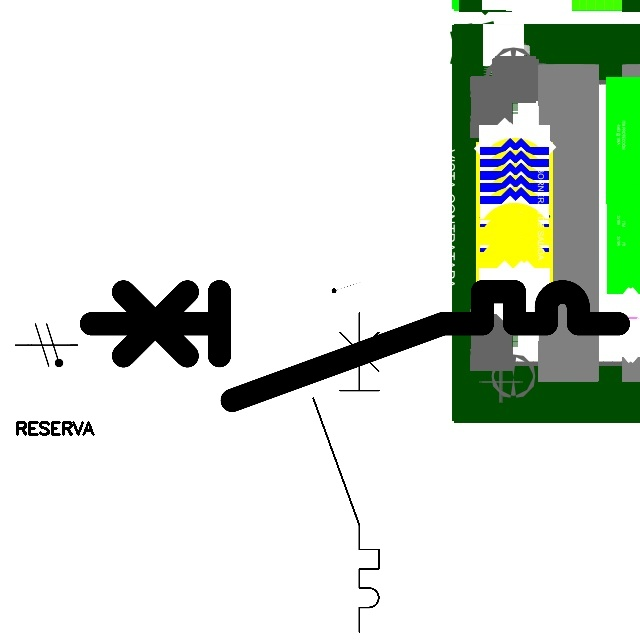interruptor_termomagnetico: (77, 278, 631, 413), (305, 304, 387, 639)
